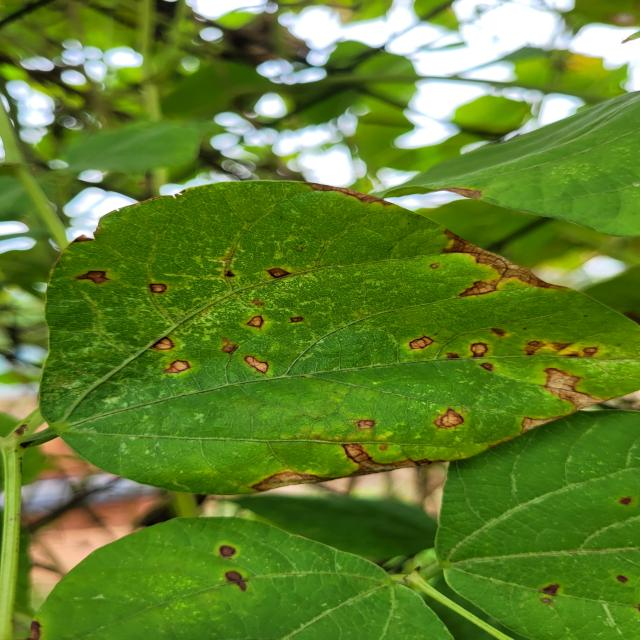Dolicos bean_cercospora leaf spot: (40, 175, 640, 497), (404, 402, 640, 640), (21, 520, 440, 640)
